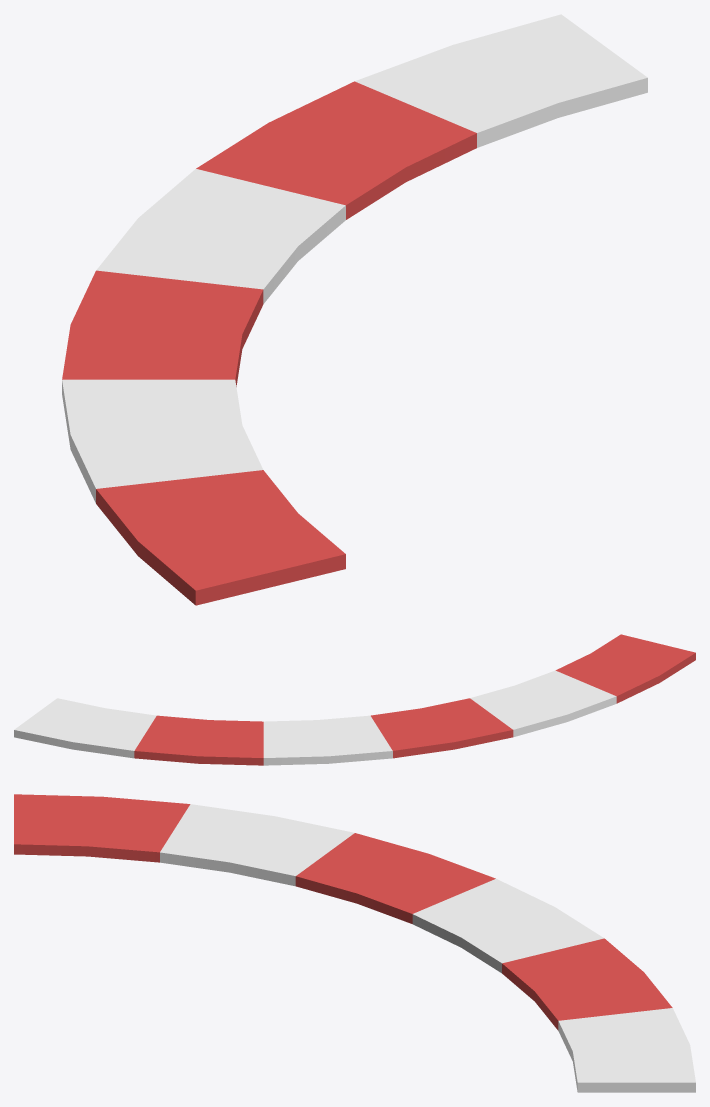
The model's file is roadCornerSmallBorder.glb.
3 renders of one model, top to bottom at view 1: azimuth 30°, elevation 25°; view 2: azimuth 150°, elevation 25°; view 3: azimuth 270°, elevation 25°, orthographic. The views are drawn at different scales.
Parts seen in each view (by area): view 1: roadCornerSmallBorder(Clone); view 2: roadCornerSmallBorder(Clone); view 3: roadCornerSmallBorder(Clone).
Boxes of the visible parts, x1,y1,x2,y2 form: roadCornerSmallBorder(Clone): (62,14,647,605); roadCornerSmallBorder(Clone): (14,634,695,765); roadCornerSmallBorder(Clone): (14,794,695,1092).
Bounding box in the file's own units: 1.21 × 0.02 × 1.21.
